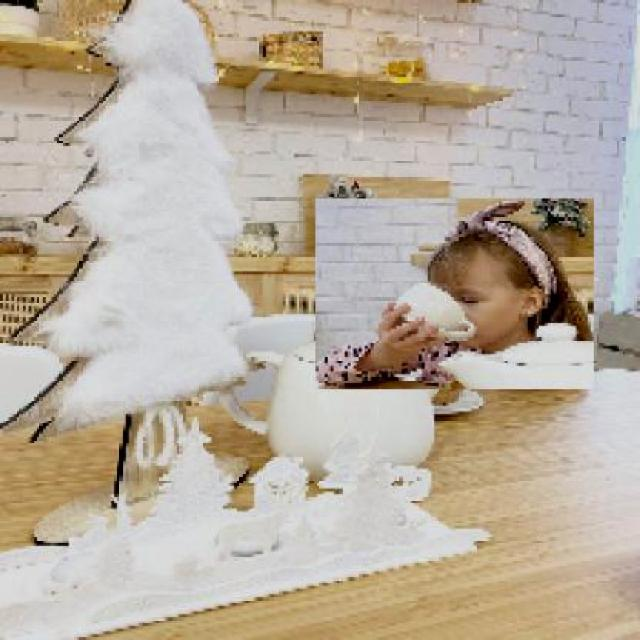child: (313, 198, 593, 391)
